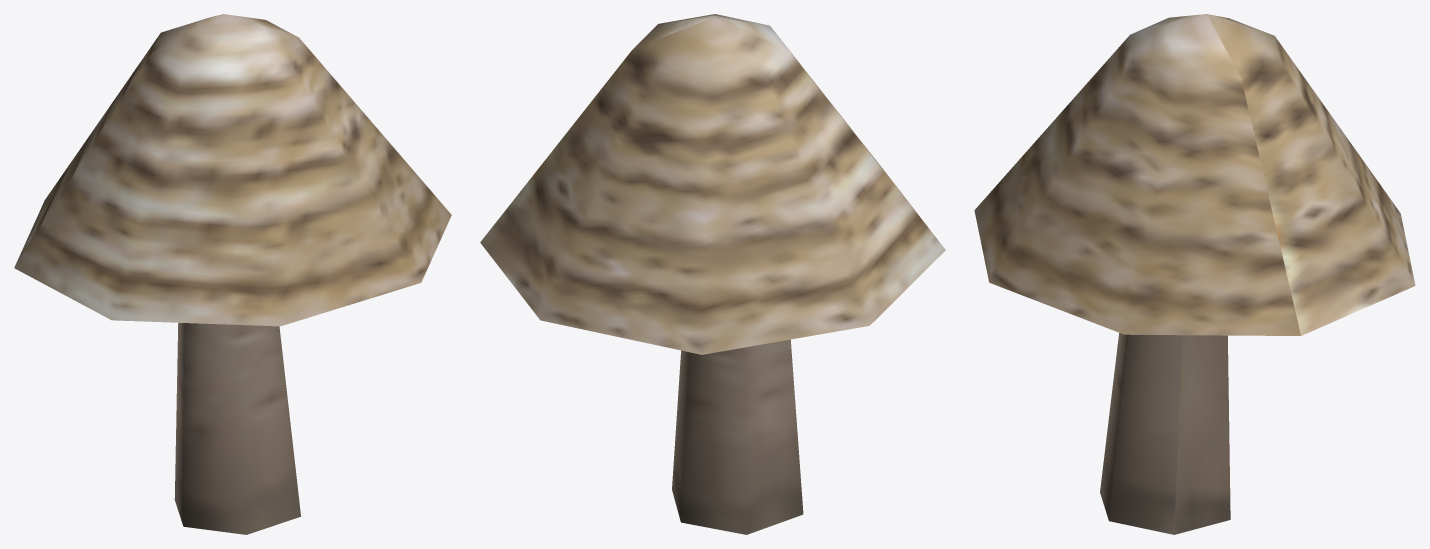
Rendered from Mushroom1B.fbx.
3 views of the same model, side by side, from view 1: azimuth 30°, elevation 25°; view 2: azimuth 150°, elevation 25°; view 3: azimuth 270°, elevation 25° (orthographic). The views are drawn at different scales.
Parts seen in each view (by area): view 1: mushroom5; view 2: mushroom5; view 3: mushroom5.
Boxes of the visible parts, <box> form: mushroom5: <box>14,14,451,534</box>; mushroom5: <box>480,14,945,534</box>; mushroom5: <box>974,14,1415,534</box>.
Size of the model in its own units: 0.3632 by 0.452 by 0.363.
1 material, 1 textured.
